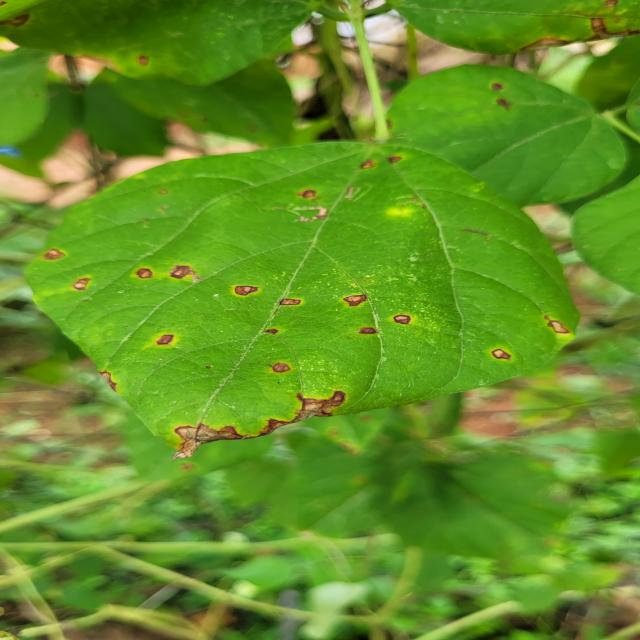Dolicos bean_cercospora leaf spot: (18, 135, 598, 448), (384, 62, 640, 213), (0, 0, 361, 70)
